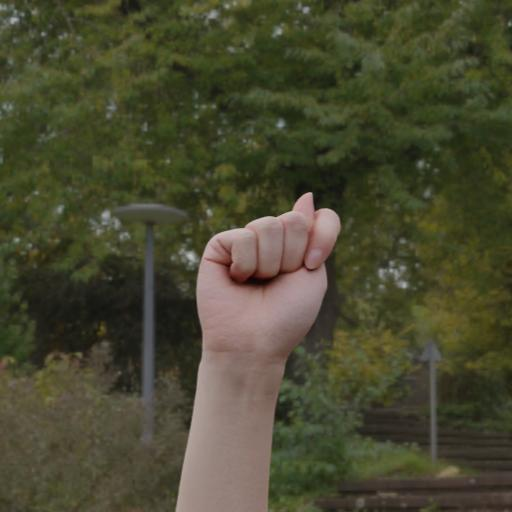T: (190, 178, 348, 404)
